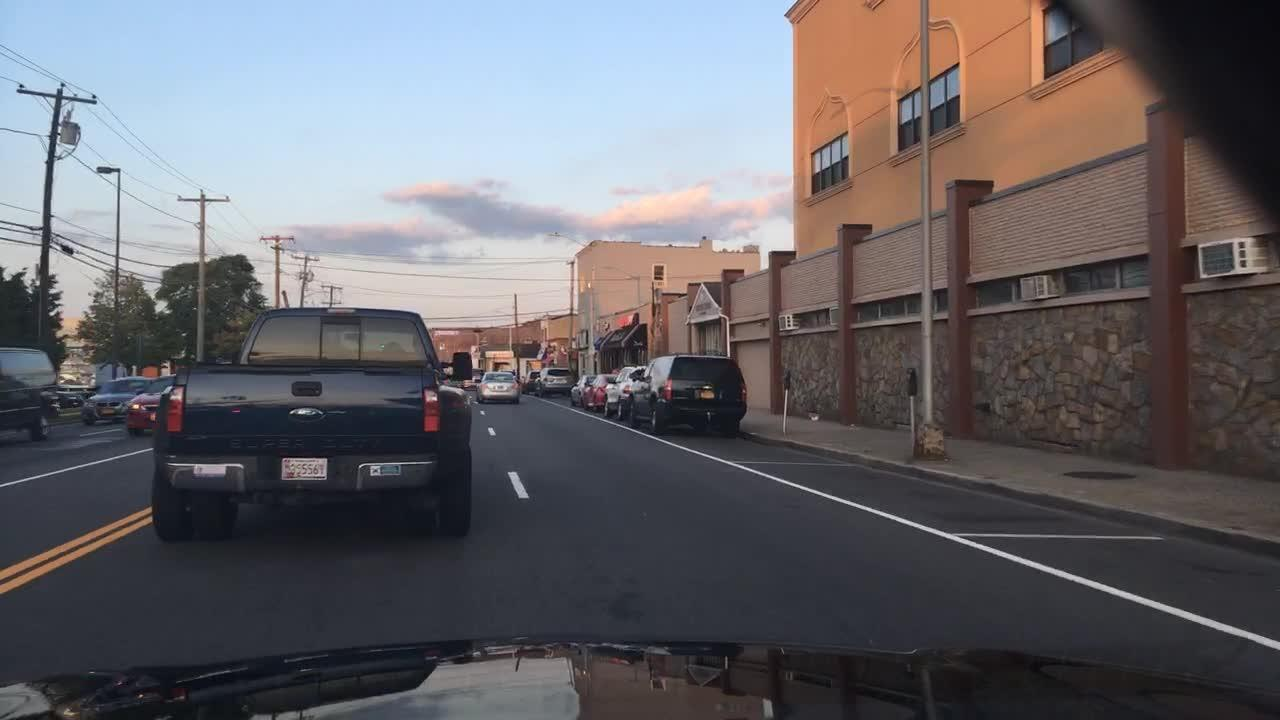chevrolet: (702, 383, 715, 390)
ford: (284, 404, 328, 424)
